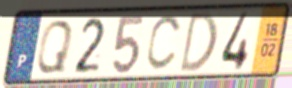2: (74, 16, 107, 75)
4: (219, 9, 251, 73)
5: (109, 13, 148, 76)
C: (143, 14, 184, 74)
D: (177, 10, 219, 76)
Q: (34, 18, 75, 76)
